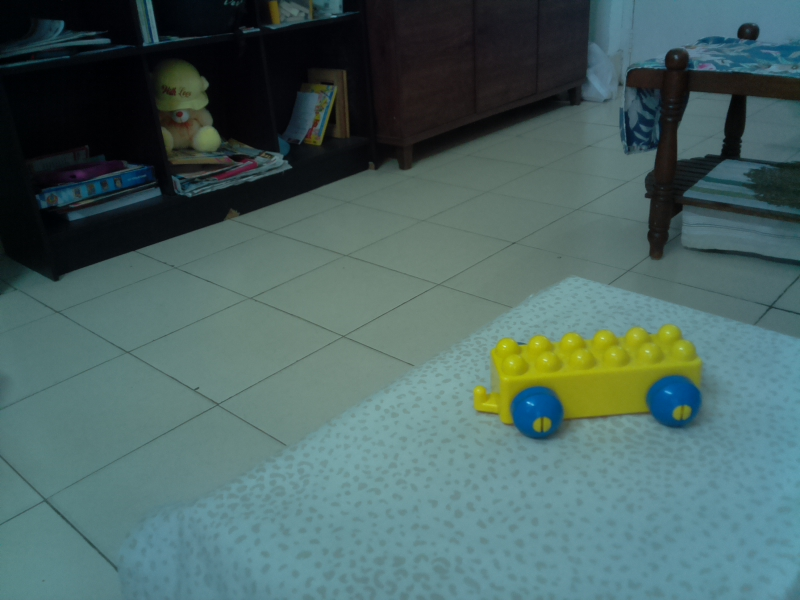toy_Car: (468, 327, 711, 442)
